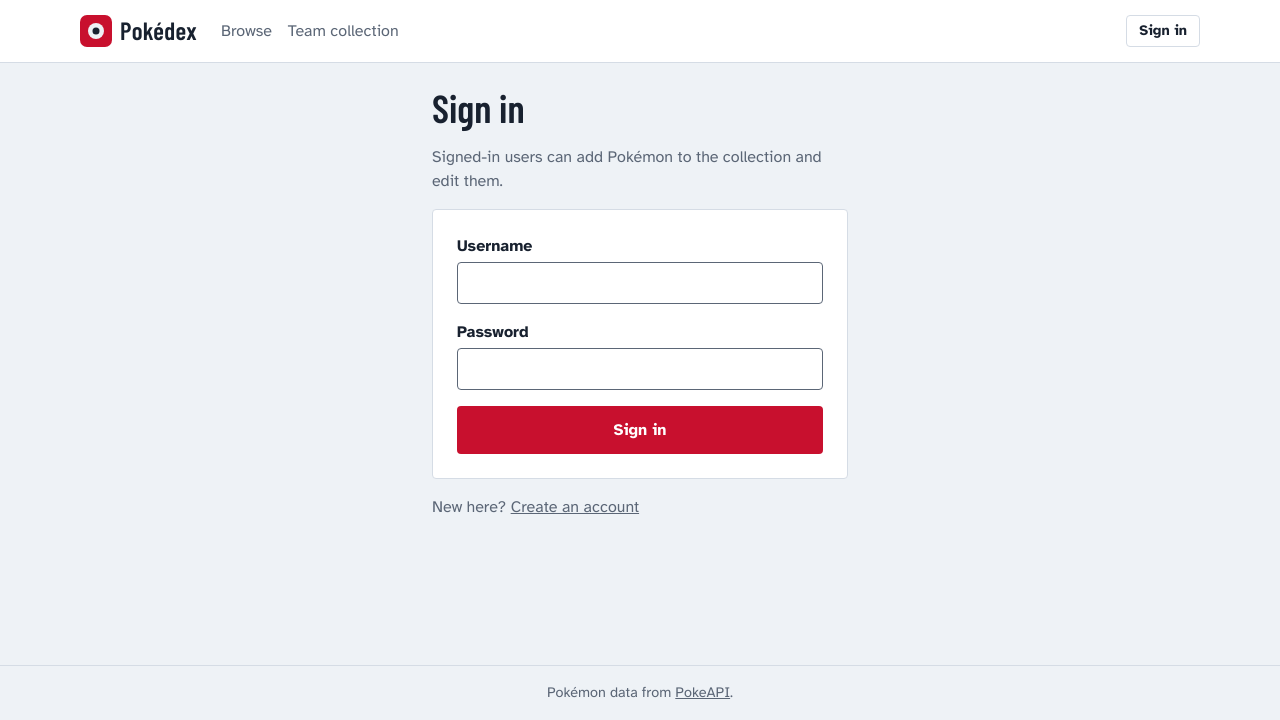
Test: Signing in › shows the server message for wrong credentials and stays on the page
In the field labelled "Username": {"x": 640, "y": 284} [457,262,823,304], type "admin"
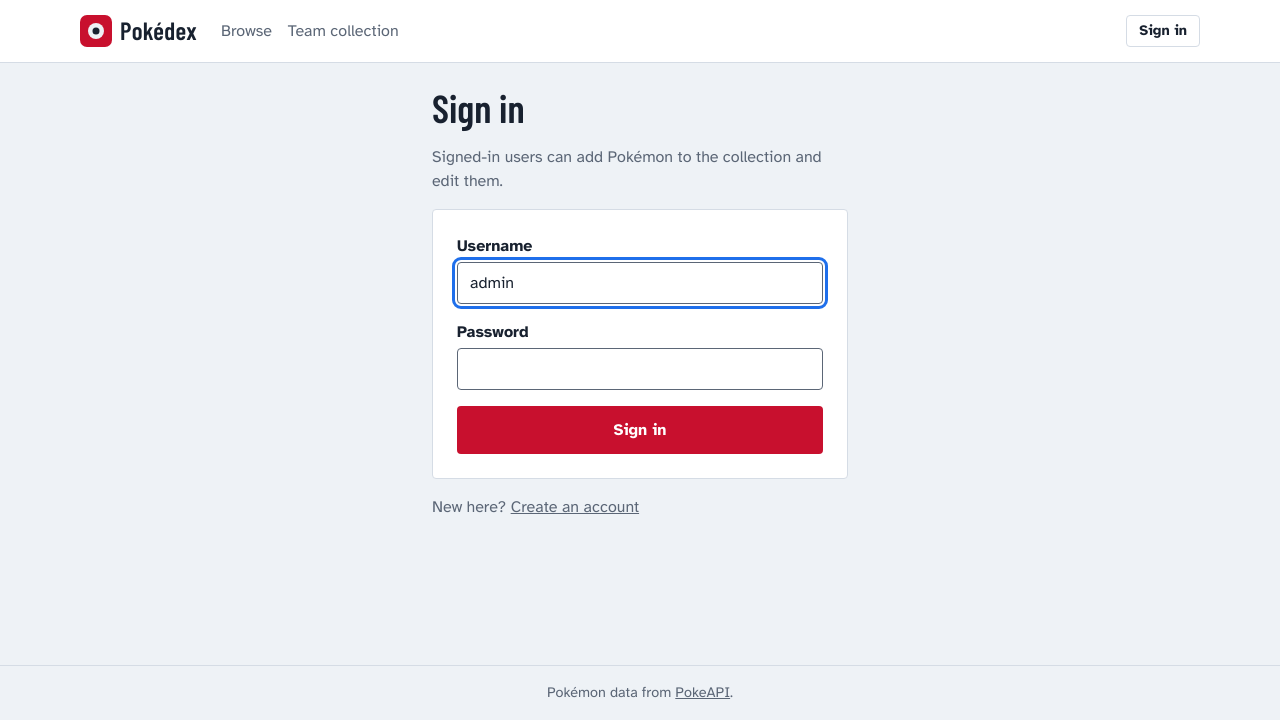
In the password field labelled "Password": {"x": 640, "y": 370} [457,348,823,390], type "wrong-password"
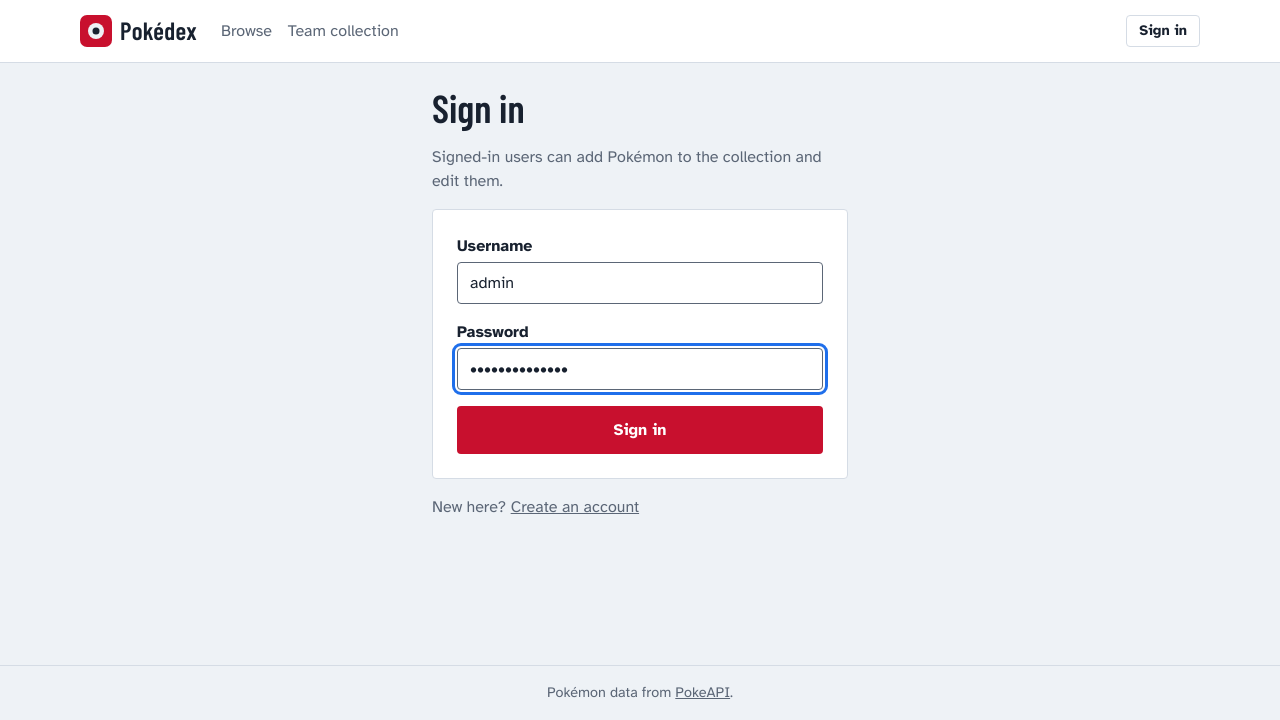
Click the button "Sign in": {"x": 640, "y": 430} [457,406,823,454]
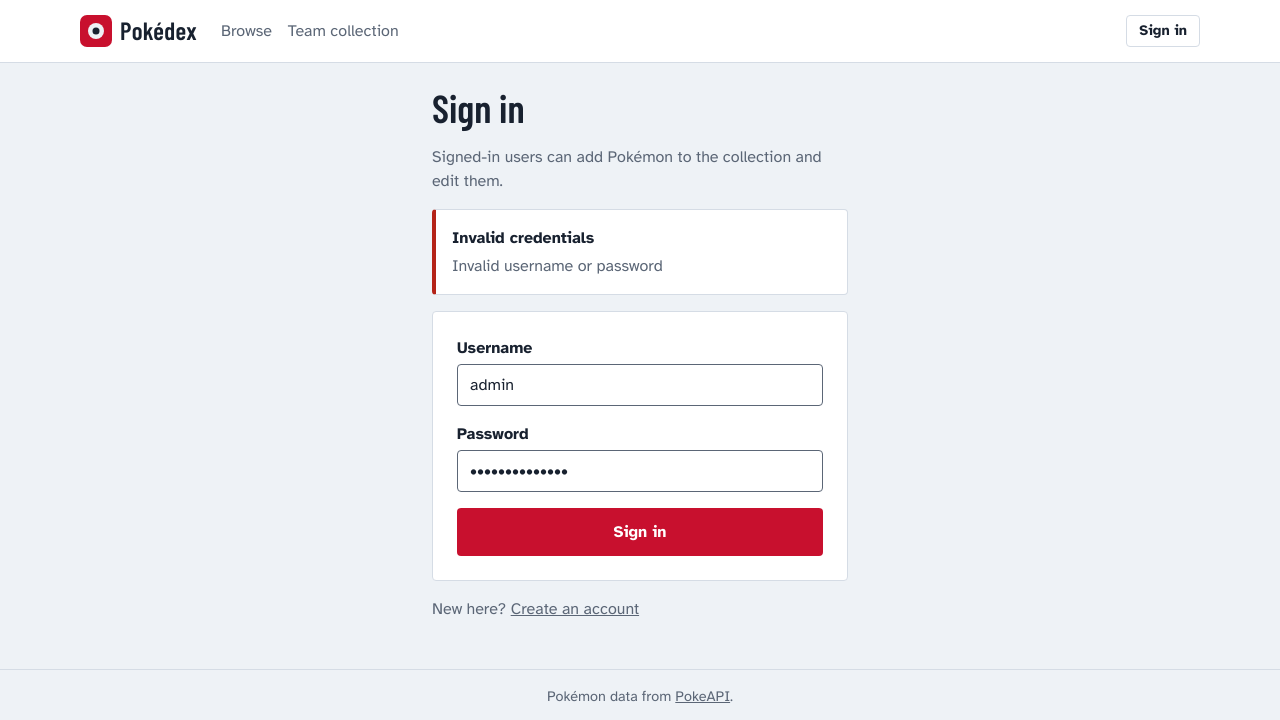
Check: the message shows "Invalid credentials", box [452,228,594,248]
Check: the message shows "Invalid username or password", box [452,256,663,276]
